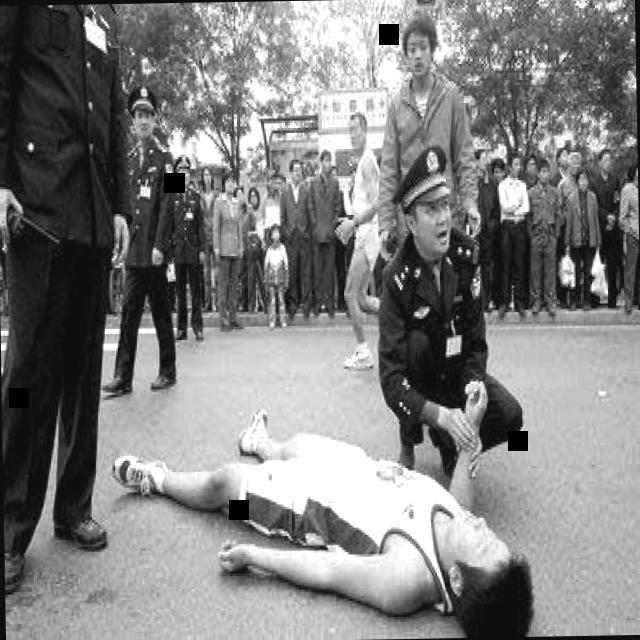Fall-Detected: (99, 382, 550, 640)
